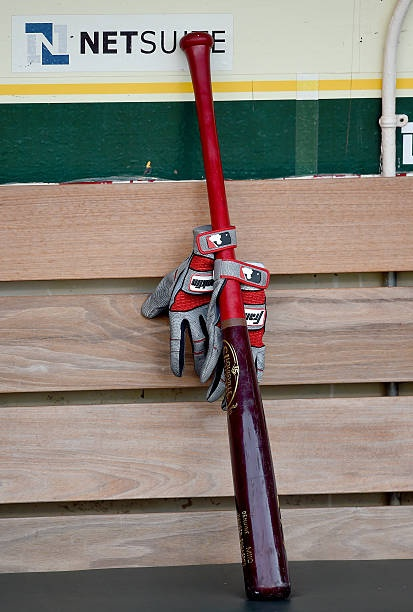bita: (181, 33, 292, 593)
